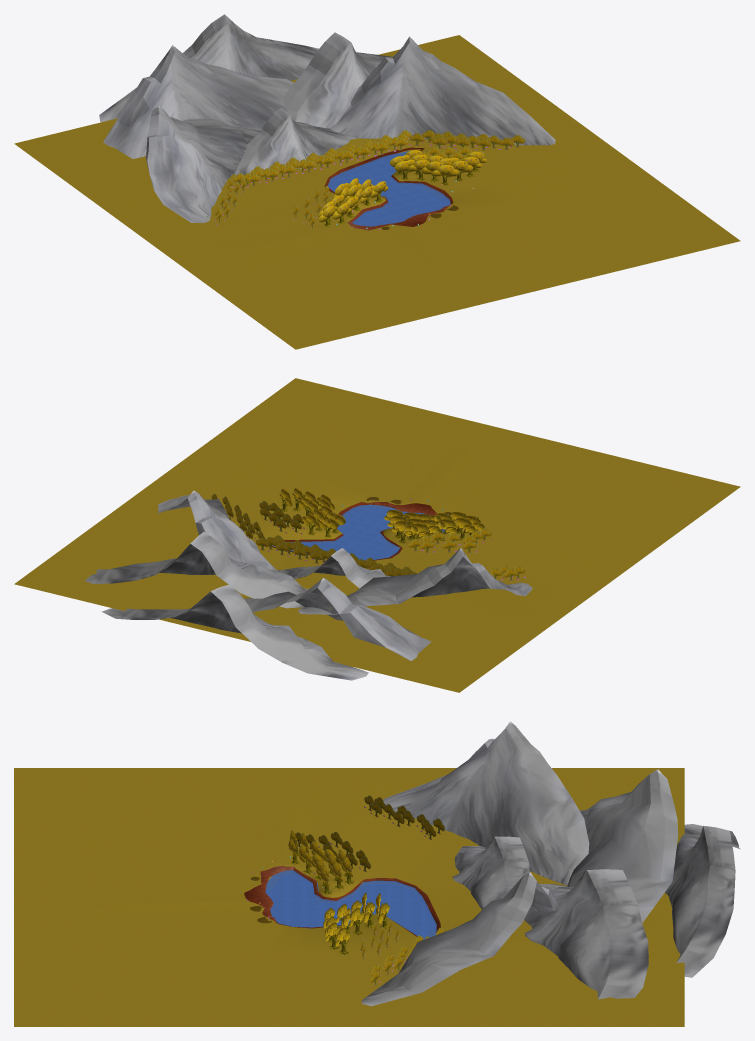
File: 341_bg_lakeC.fbx
3 renders of one model, top to bottom at view 1: azimuth 30°, elevation 25°; view 2: azimuth 150°, elevation 25°; view 3: azimuth 270°, elevation 25°, orthographic. The views are drawn at different scales.
Parts seen in each view (by area): view 1: ground, _bg_grassC:polySurface1, _bg_grassC:polySurface17, _bg_grassC:polySurface18, _bg_grassC:polySurface19, _bg_grassC:polySurface20, _bg_grassC:polySurface16, lake, polySurface2; view 2: ground, _bg_grassC:polySurface20, _bg_grassC:polySurface19, _bg_grassC:polySurface18, _bg_grassC:polySurface17, _bg_grassC:polySurface1, lake, _bg_grassC:polySurface16; view 3: ground, _bg_grassC:polySurface18, _bg_grassC:polySurface19, _bg_grassC:polySurface17, _bg_grassC:polySurface20, _bg_grassC:polySurface1, lake, _bg_grassC:polySurface16, polySurface2, polySurface1.
Boxes of the visible parts, x1,y1,x2,y2 form: ground: [14, 35, 740, 349]; _bg_grassC:polySurface1: [330, 36, 555, 145]; _bg_grassC:polySurface17: [103, 45, 293, 158]; _bg_grassC:polySurface18: [146, 105, 260, 223]; _bg_grassC:polySurface19: [283, 32, 392, 128]; _bg_grassC:polySurface20: [99, 14, 318, 122]; _bg_grassC:polySurface16: [234, 108, 357, 175]; lake: [327, 151, 450, 226]; polySurface2: [324, 147, 453, 222]; ground: [14, 378, 740, 692]; _bg_grassC:polySurface20: [101, 584, 368, 680]; _bg_grassC:polySurface19: [85, 532, 308, 608]; _bg_grassC:polySurface18: [298, 548, 532, 614]; _bg_grassC:polySurface17: [244, 578, 431, 660]; _bg_grassC:polySurface1: [158, 490, 277, 571]; lake: [272, 504, 444, 560]; _bg_grassC:polySurface16: [277, 548, 390, 588]; ground: [14, 768, 684, 1026]; _bg_grassC:polySurface18: [380, 721, 589, 885]; _bg_grassC:polySurface19: [524, 869, 648, 999]; _bg_grassC:polySurface17: [567, 769, 678, 922]; _bg_grassC:polySurface20: [665, 824, 740, 977]; _bg_grassC:polySurface1: [361, 872, 558, 1006]; lake: [265, 870, 436, 939]; _bg_grassC:polySurface16: [452, 836, 529, 908]; polySurface2: [275, 868, 440, 936]; polySurface1: [244, 865, 294, 921].
Bounding box in the file's own units: 6380 × 1361 × 7576.
